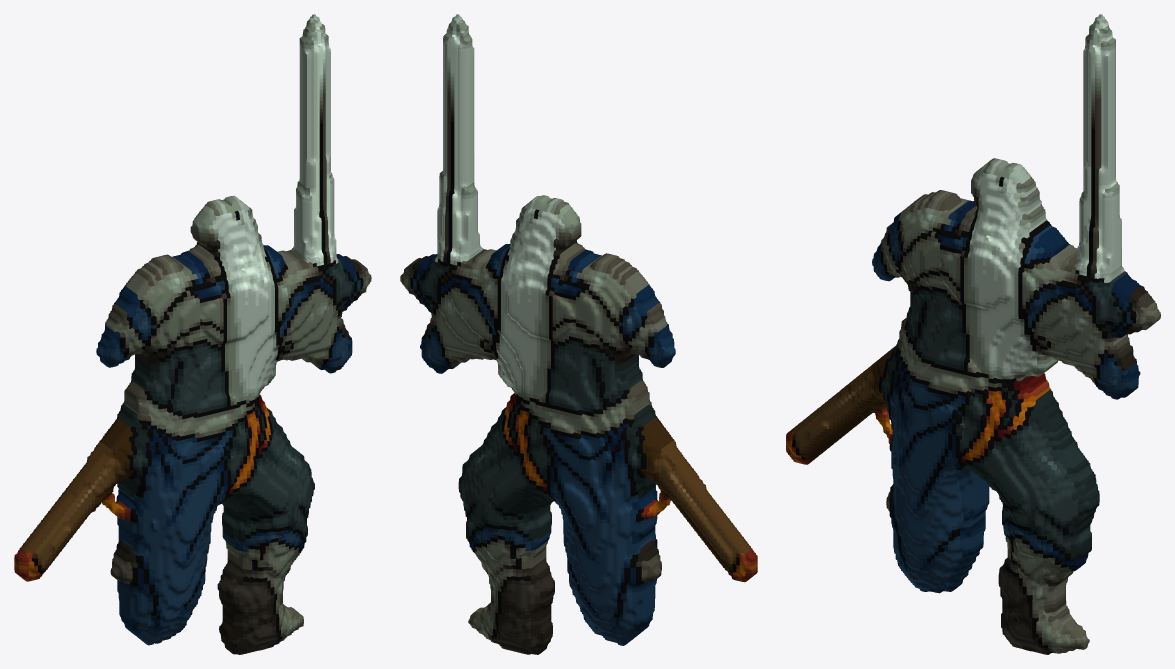
The model's file is Fight_107_1_04.obj.
The picture shows the model from 3 angles, left to right: view 1: azimuth 30°, elevation 25°; view 2: azimuth 150°, elevation 25°; view 3: azimuth 330°, elevation 25°; orthographic projection. The views are drawn at different scales.
Size of the model in its own units: 9.9 by 16.58 by 2.3.
1 material, 1 textured.
